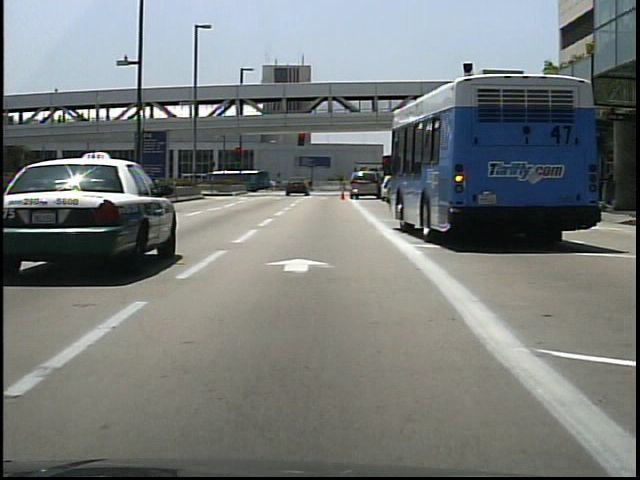person: (307, 179, 317, 194), (338, 177, 347, 192)
